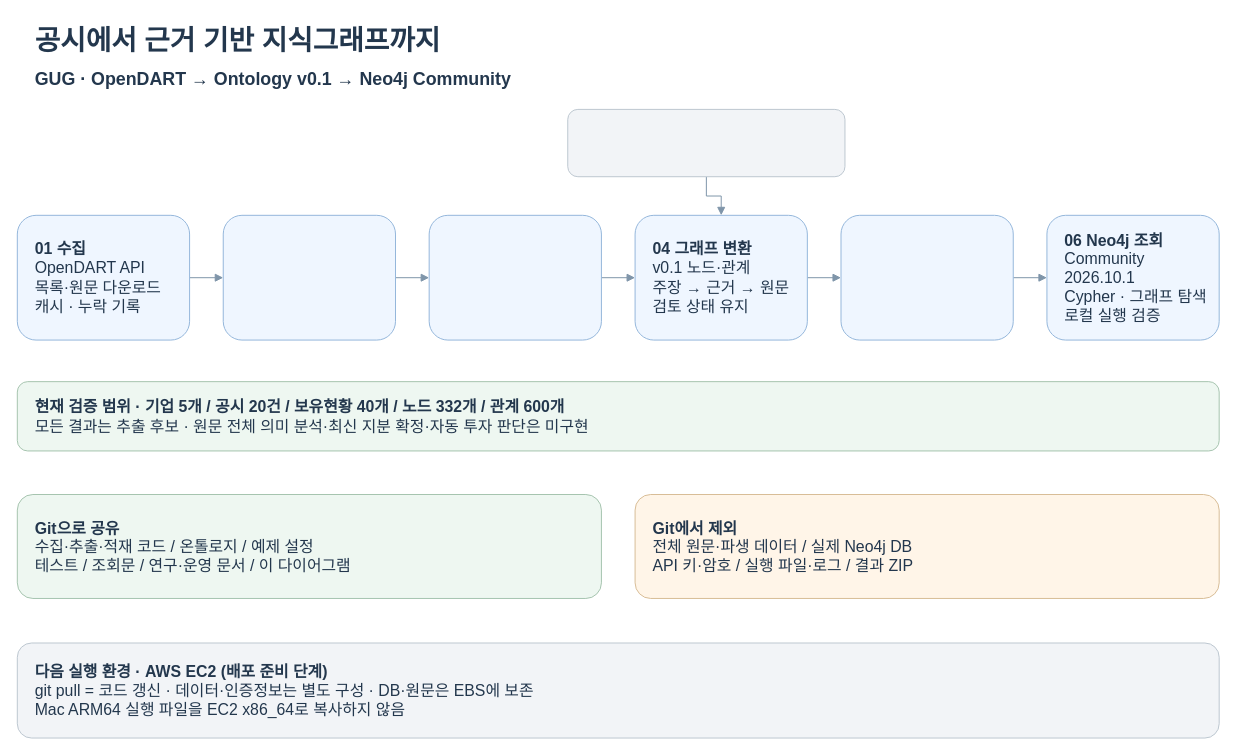
The diagram is 1242 pixels wide and 755 high, and some of its shapes have lost their labels. Here are the shapes that lost their labels. From the top down, the box of each, then its label:
(567, 108, 845, 177): 온톨로지 v0.1 · 적용 기준 v0.2 / FIBO 매핑은 검토 초안
(222, 214, 396, 340): 02 원본 보존 ZIP / XML / JSON 접수번호·파일 해시 16,295건 목록
(428, 214, 601, 340): 03 필요한 값 추출 ACODE / AUNIT 표식 수량·비율·기준일 개인 / 합산 구분
(840, 214, 1013, 340): 05 검증·적재 준비 형식 지정 CSV ID·산술·근거 검사 중복 없는 재적재
